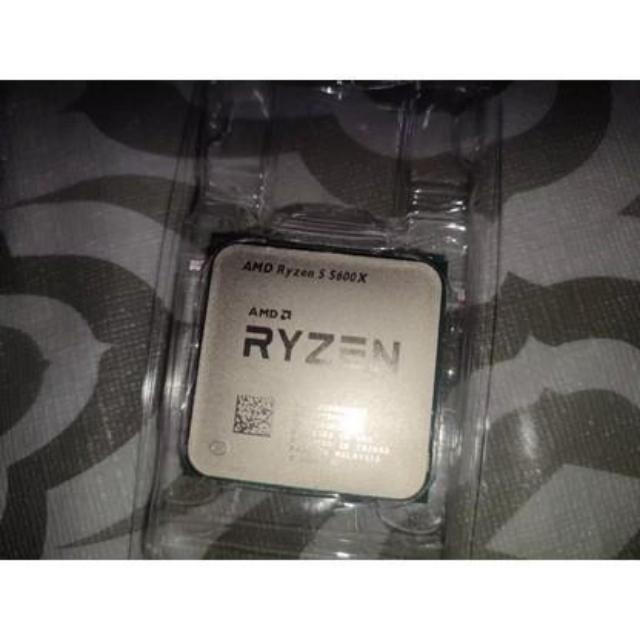CPU: (184, 239, 444, 501)
